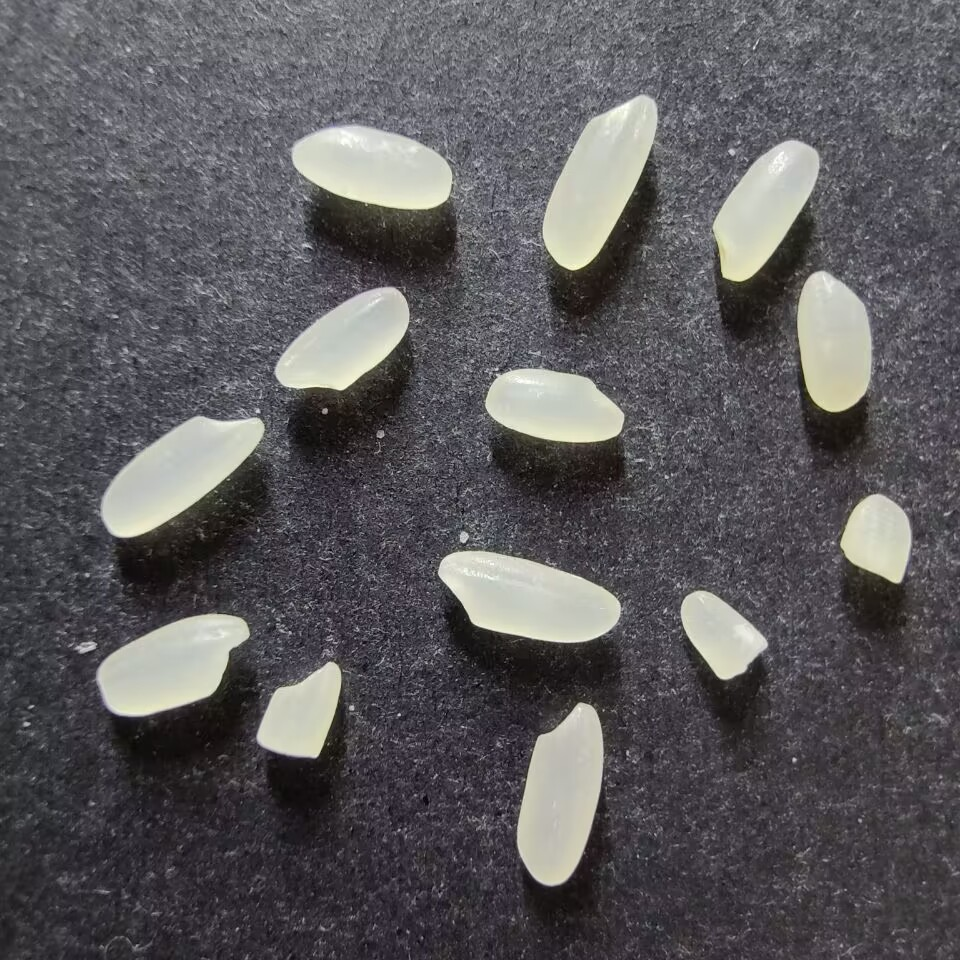broken: (255, 658, 341, 758), (679, 590, 768, 681), (839, 494, 912, 584)
rice: (541, 93, 657, 270), (99, 414, 264, 538), (437, 550, 621, 643), (515, 701, 604, 887), (96, 611, 250, 717), (710, 140, 819, 282), (274, 286, 409, 392), (290, 125, 452, 209), (796, 271, 872, 412), (484, 368, 625, 443)
